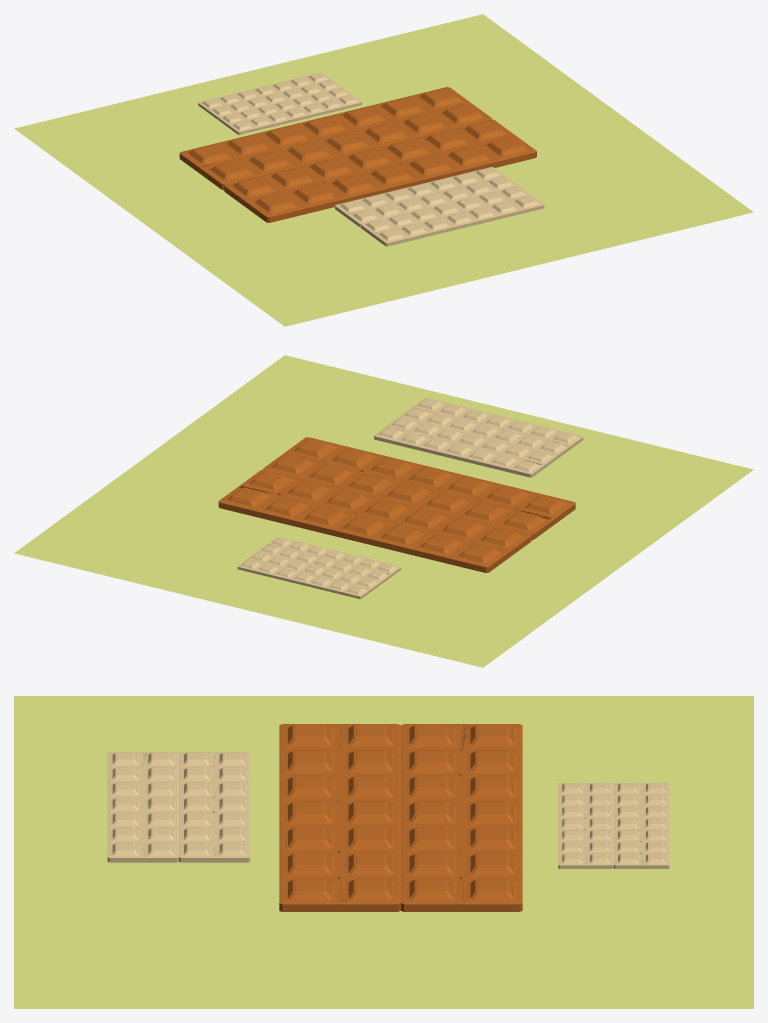
Rendered from chocolate_oscuro.glb.
The picture shows the model from 3 angles, top to bottom: view 1: azimuth 30°, elevation 25°; view 2: azimuth 150°, elevation 25°; view 3: azimuth 270°, elevation 25°; orthographic projection. The views are drawn at different scales.
Visible parts, largest first — view 1: Plane, Cube, Cube.001, Cube.002; view 2: Plane, Cube, Cube.001, Cube.002; view 3: Plane, Cube, Cube.001, Cube.002.
Part boxes in pixels (<box>): Plane: <box>14,14,753,326</box>; Cube: <box>179,87,536,222</box>; Cube.001: <box>335,167,544,246</box>; Cube.002: <box>198,72,361,134</box>; Plane: <box>14,355,753,667</box>; Cube: <box>218,437,575,572</box>; Cube.001: <box>374,398,583,477</box>; Cube.002: <box>237,537,401,599</box>; Plane: <box>14,696,753,1008</box>; Cube: <box>279,724,522,911</box>; Cube.001: <box>107,752,250,862</box>; Cube.002: <box>558,783,669,868</box>.
Bounding box in the file's own units: 1076 × 61.03 × 1076.
